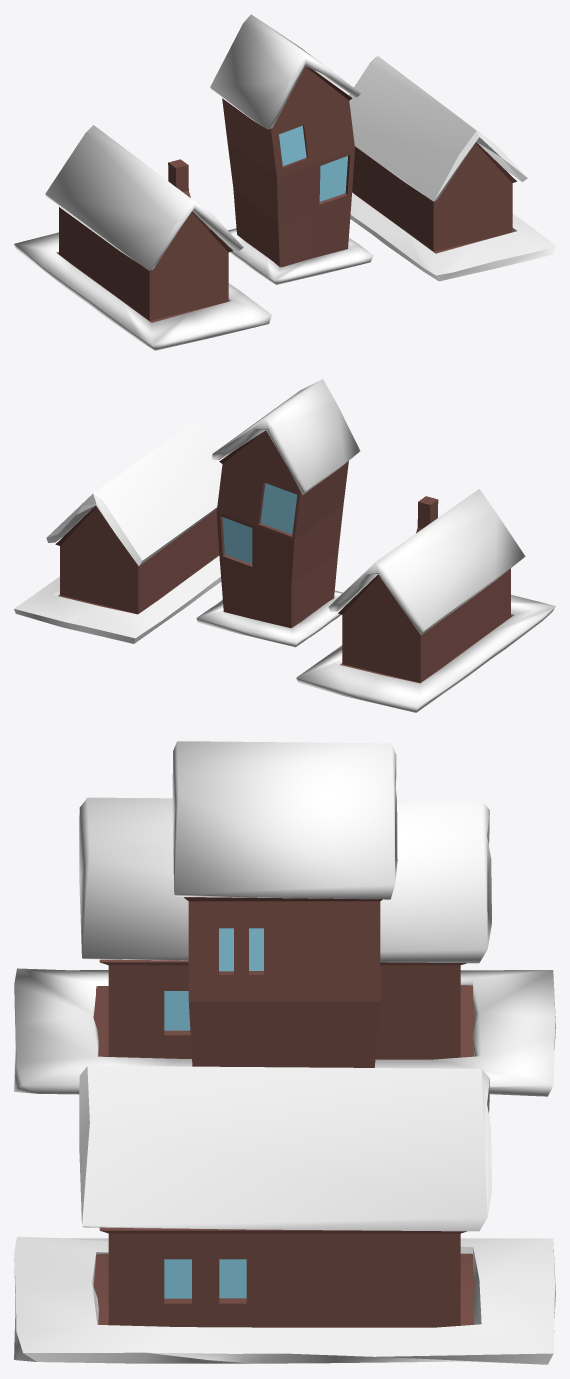
File: decoration-houses.fbx
3 renders of one model, top to bottom at view 1: azimuth 30°, elevation 25°; view 2: azimuth 150°, elevation 25°; view 3: azimuth 270°, elevation 25°, orthographic. The views are drawn at different scales.
Parts seen in each view (by area): view 1: mdl_house3, mdl_house2, mdl_house1; view 2: mdl_house3, mdl_house2, mdl_house1; view 3: mdl_house1, mdl_house3, mdl_house2.
Boxes of the visible parts, x1=… form: mdl_house3: x1=14, y1=125, x2=271, y2=350; mdl_house2: x1=210, y1=14, x2=373, y2=284; mdl_house1: x1=349, y1=56, x2=555, y2=281; mdl_house3: x1=296, y1=489, x2=555, y2=712; mdl_house2: x1=196, y1=379, x2=360, y2=647; mdl_house1: x1=14, y1=420, x2=223, y2=643; mdl_house1: x1=14, y1=1066, x2=555, y2=1364; mdl_house3: x1=14, y1=797, x2=555, y2=1096; mdl_house2: x1=172, y1=741, x2=397, y2=1067.
Bounding box in the file's own units: 3017 × 1552 × 1793.
